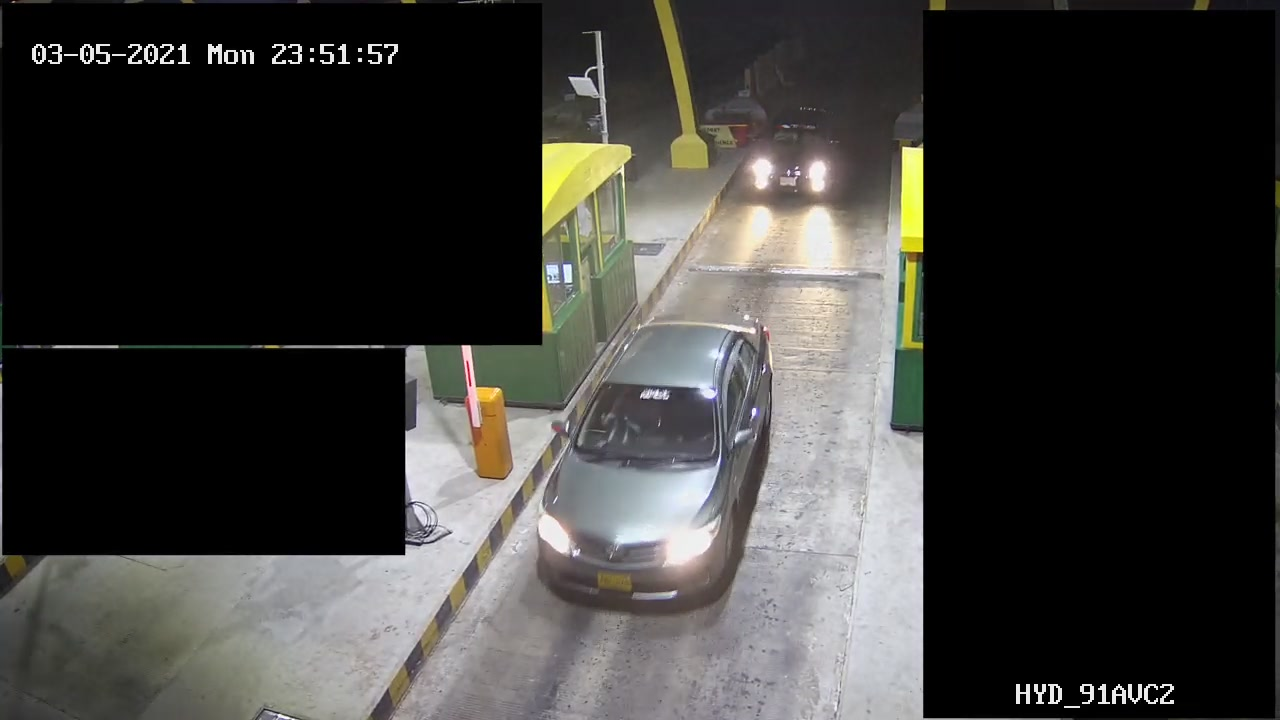F1: (523, 304, 776, 624)
